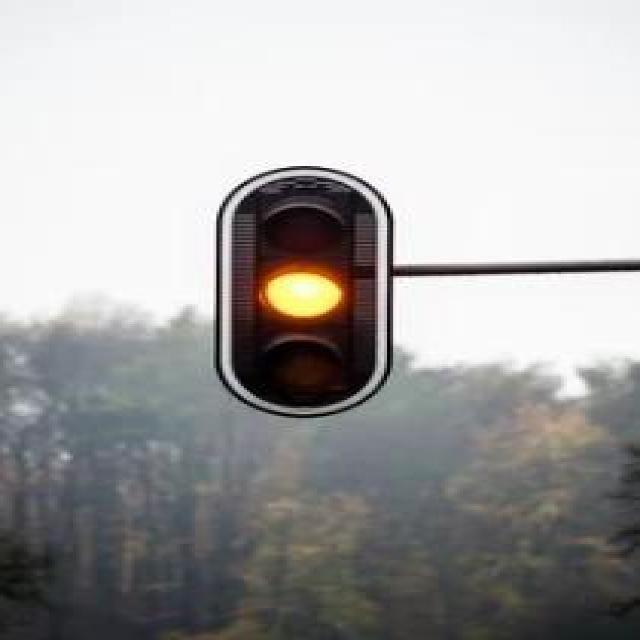yellow_light: (255, 189, 357, 399)
